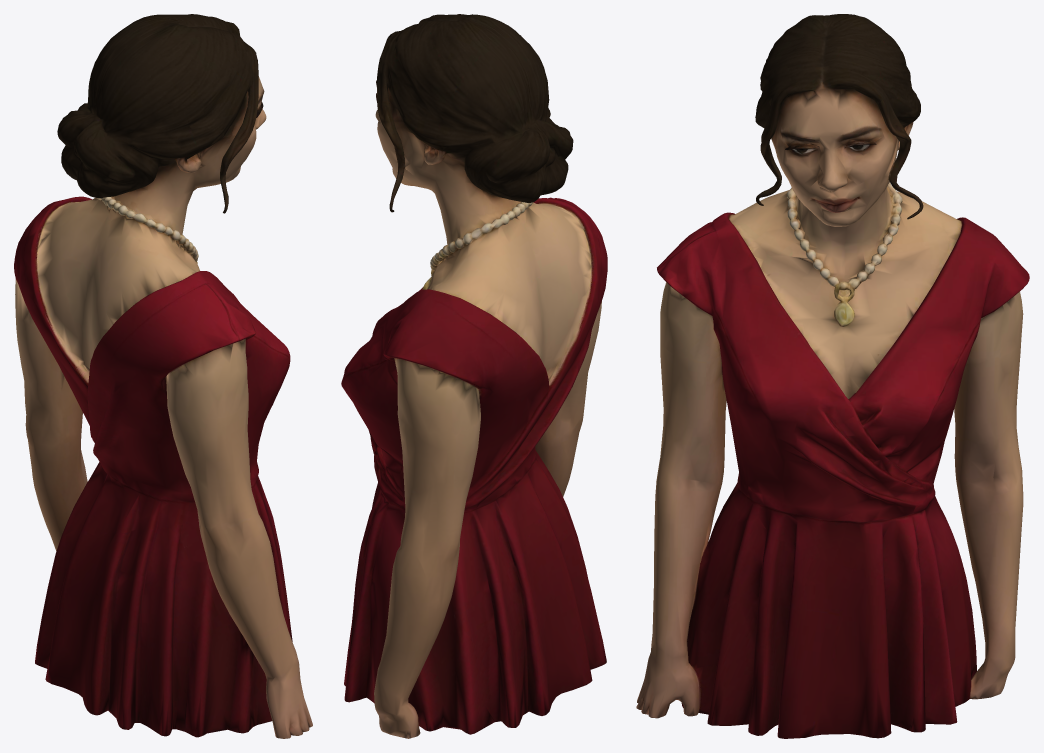
The model's file is modelfix3.glb.
The picture shows the model from 3 angles, left to right: view 1: azimuth 30°, elevation 25°; view 2: azimuth 150°, elevation 25°; view 3: azimuth 270°, elevation 25°; orthographic projection. The views are drawn at different scales.
Size of the model in its own units: 0.3152 by 1 by 0.5308.
Materials: 1 (1 with a texture image).
